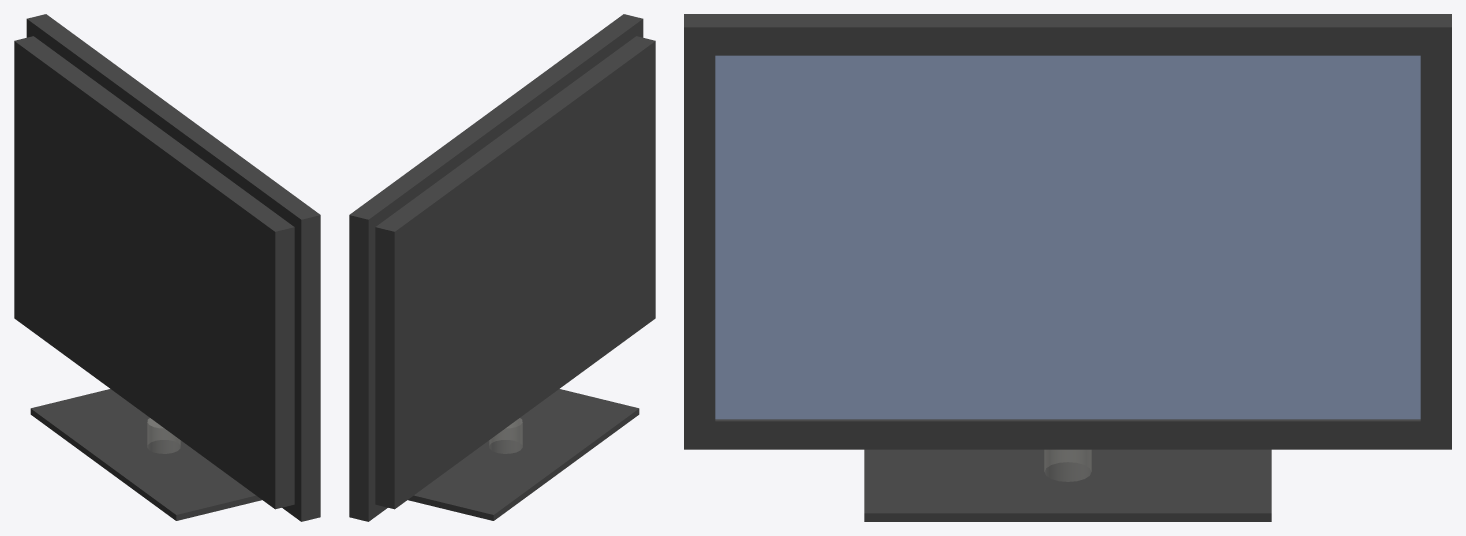
3 views of the same model, side by side, from view 1: azimuth 30°, elevation 25°; view 2: azimuth 150°, elevation 25°; view 3: azimuth 270°, elevation 25° (orthographic). The views are drawn at different scales.
Parts seen in each view (by area): view 1: Cube; view 2: Cube; view 3: Cube.
Boxes of the visible parts, x1=… form: Cube: x1=14, y1=14, x2=320, y2=521; Cube: x1=349, y1=14, x2=655, y2=521; Cube: x1=684, y1=14, x2=1451, y2=521.
Size of the model in its own units: 25 by 65.71 by 98.
